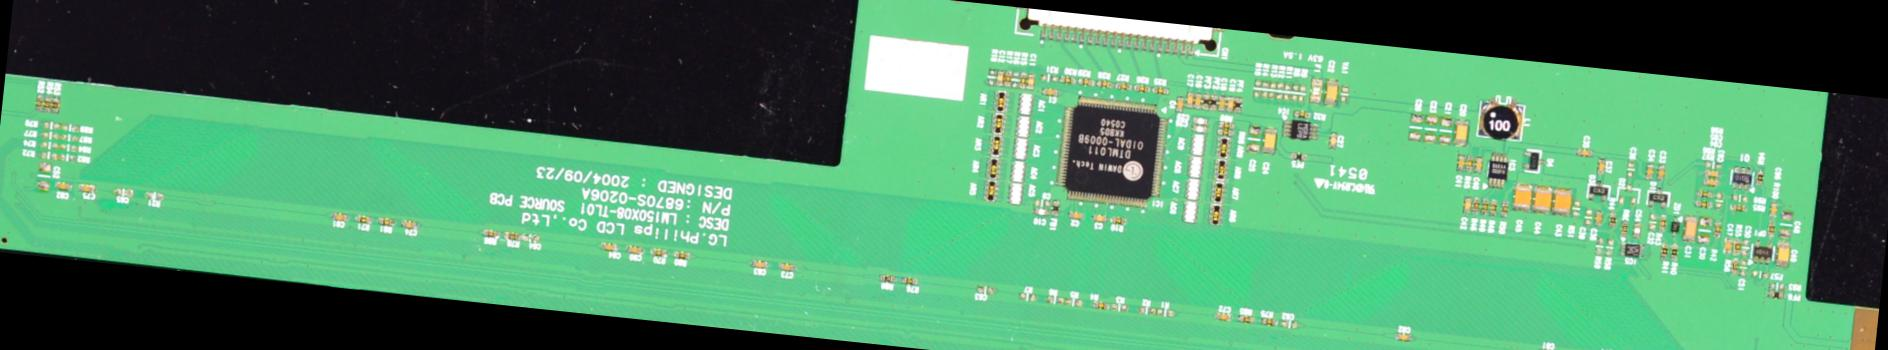Capacitor Jumper: (1529, 183, 1554, 213), (1404, 107, 1426, 141), (1511, 180, 1533, 210), (1550, 186, 1573, 214), (1259, 125, 1280, 154), (1245, 123, 1262, 153), (1422, 113, 1439, 142), (1778, 210, 1795, 239), (1698, 215, 1713, 245), (1775, 242, 1793, 265), (1452, 119, 1469, 143), (1682, 214, 1697, 242), (1439, 115, 1452, 146), (1323, 78, 1339, 103), (1391, 332, 1416, 343), (1210, 308, 1232, 320), (1090, 210, 1109, 224), (399, 216, 418, 230), (1029, 204, 1050, 216), (748, 257, 768, 269), (1040, 84, 1058, 97), (112, 185, 134, 196), (1646, 213, 1658, 232), (1066, 208, 1085, 220), (329, 209, 348, 221), (625, 242, 644, 254), (778, 260, 797, 272), (1280, 318, 1299, 330), (1463, 194, 1474, 214), (1174, 95, 1186, 113), (1455, 153, 1467, 171), (1632, 220, 1644, 238), (1327, 131, 1338, 150), (54, 180, 73, 191), (977, 284, 996, 295), (1592, 209, 1604, 226), (1722, 236, 1734, 253), (526, 231, 543, 243), (995, 67, 1004, 88), (1026, 71, 1037, 89), (1644, 161, 1654, 179), (77, 182, 95, 192), (1583, 207, 1593, 226), (1740, 237, 1750, 256), (1576, 147, 1593, 158), (1656, 164, 1666, 180), (1739, 257, 1750, 274), (1033, 197, 1050, 208), (1193, 91, 1203, 109), (1626, 160, 1635, 178), (1703, 177, 1721, 186), (1474, 156, 1483, 174), (601, 241, 618, 250), (1184, 90, 1193, 106), (1597, 158, 1606, 173), (39, 161, 52, 172), (1705, 170, 1721, 178), (1226, 95, 1234, 109), (1217, 94, 1225, 109), (1536, 345, 1560, 349)
IC: (1050, 88, 1175, 210), (1280, 115, 1322, 142)
Resistor Jumper: (141, 188, 169, 201), (352, 212, 374, 224), (1728, 201, 1748, 214), (377, 214, 397, 227), (1617, 219, 1630, 238), (505, 229, 524, 242), (1076, 77, 1097, 89), (1043, 293, 1064, 304), (1134, 304, 1156, 315), (1569, 197, 1581, 216), (1017, 290, 1037, 302), (672, 248, 689, 261), (985, 66, 996, 87), (1769, 200, 1780, 220), (1156, 307, 1176, 318), (1151, 83, 1169, 95), (61, 121, 79, 134), (1096, 77, 1115, 88), (1010, 70, 1021, 89), (1704, 159, 1723, 170), (1695, 188, 1715, 198), (1499, 200, 1510, 219), (51, 95, 61, 114), (39, 138, 58, 149), (37, 150, 59, 160), (58, 152, 77, 162), (1293, 107, 1310, 119), (1606, 210, 1618, 227), (1729, 256, 1741, 273), (1659, 241, 1669, 261), (1604, 237, 1613, 257), (1064, 296, 1085, 305), (1132, 83, 1150, 94), (1712, 220, 1723, 238), (42, 119, 60, 130), (1259, 79, 1269, 99), (1003, 67, 1013, 87), (1669, 242, 1678, 261), (1110, 302, 1129, 312), (1038, 72, 1060, 81), (1058, 75, 1075, 85), (1487, 198, 1498, 215), (1108, 214, 1125, 225), (902, 274, 919, 285), (1251, 78, 1261, 96), (1464, 154, 1474, 172), (1730, 192, 1748, 202), (34, 93, 43, 111), (41, 130, 59, 140), (480, 229, 498, 238), (1091, 299, 1109, 309), (880, 272, 896, 283), (1261, 315, 1276, 326), (1268, 79, 1276, 99), (1282, 82, 1291, 101), (1756, 168, 1765, 185), (1658, 213, 1666, 232), (1480, 196, 1489, 213), (59, 134, 78, 142), (43, 94, 52, 112), (59, 143, 77, 152), (1768, 221, 1777, 237), (1238, 314, 1253, 324), (1298, 83, 1305, 103), (1473, 195, 1480, 215), (1768, 281, 1788, 289), (1694, 200, 1711, 208), (1733, 238, 1741, 255), (1291, 82, 1298, 101), (651, 247, 666, 256), (1115, 82, 1131, 90), (1276, 81, 1284, 99), (1020, 71, 1027, 89), (1595, 237, 1603, 255)
Transistor: (1727, 164, 1753, 191), (1751, 238, 1774, 266)
iC: (1485, 152, 1510, 189), (1618, 241, 1646, 260)
